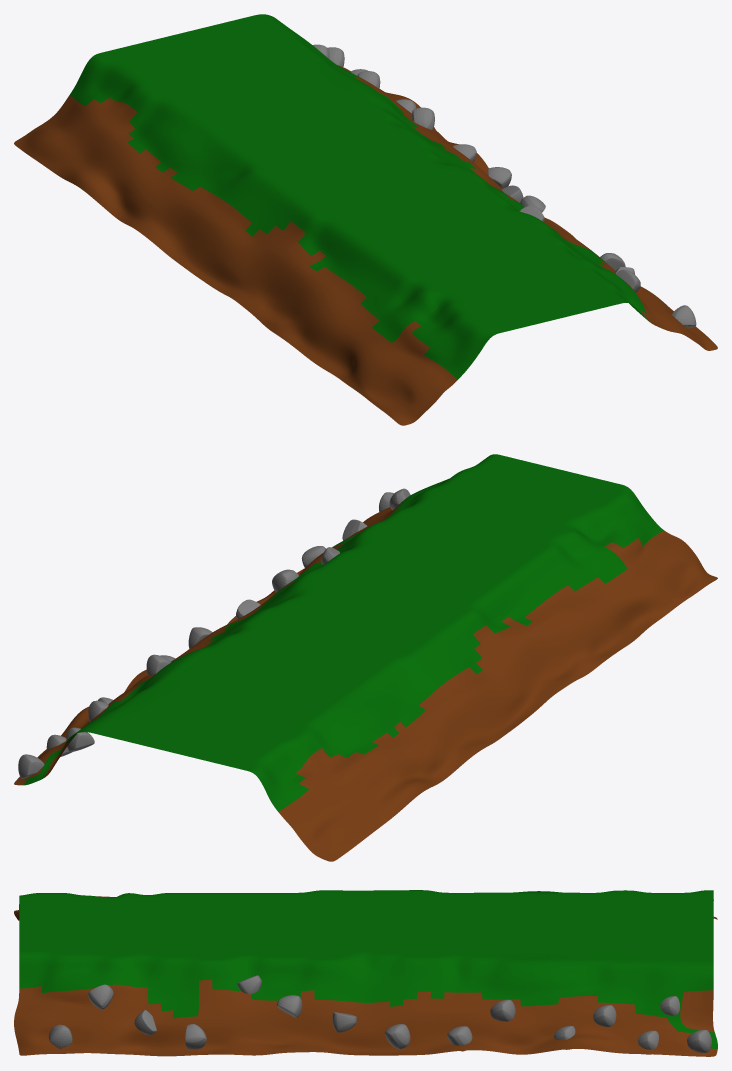
Rendered from Bank.fbx.
3 renders of one model, top to bottom at view 1: azimuth 30°, elevation 25°; view 2: azimuth 150°, elevation 25°; view 3: azimuth 270°, elevation 25°, orthographic. The views are drawn at different scales.
Visible parts, largest first — view 1: Plane; view 2: Plane; view 3: Plane, Sphere.007, Sphere.015, Sphere.002, Sphere.004, Sphere.010, Sphere.001, Sphere.006, Sphere.012, Sphere.009, Sphere.008, Sphere.003 (+3 smaller).
Boxes of the visible parts, x1,y1,x2,y2 form: Plane: [14, 14, 717, 425]; Plane: [14, 454, 717, 861]; Plane: [14, 890, 717, 1056]; Sphere.007: [385, 1024, 410, 1049]; Sphere.015: [687, 1029, 711, 1052]; Sphere.002: [88, 984, 113, 1009]; Sphere.004: [185, 1024, 206, 1049]; Sphere.010: [490, 999, 515, 1021]; Sphere.001: [48, 1024, 72, 1048]; Sphere.006: [277, 995, 302, 1017]; Sphere.012: [593, 1005, 616, 1026]; Sphere.009: [447, 1026, 472, 1051]; Sphere.008: [332, 1012, 356, 1032]; Sphere.003: [134, 1010, 156, 1034].
Bounding box in the file's own units: 1010 × 201 × 2026.
